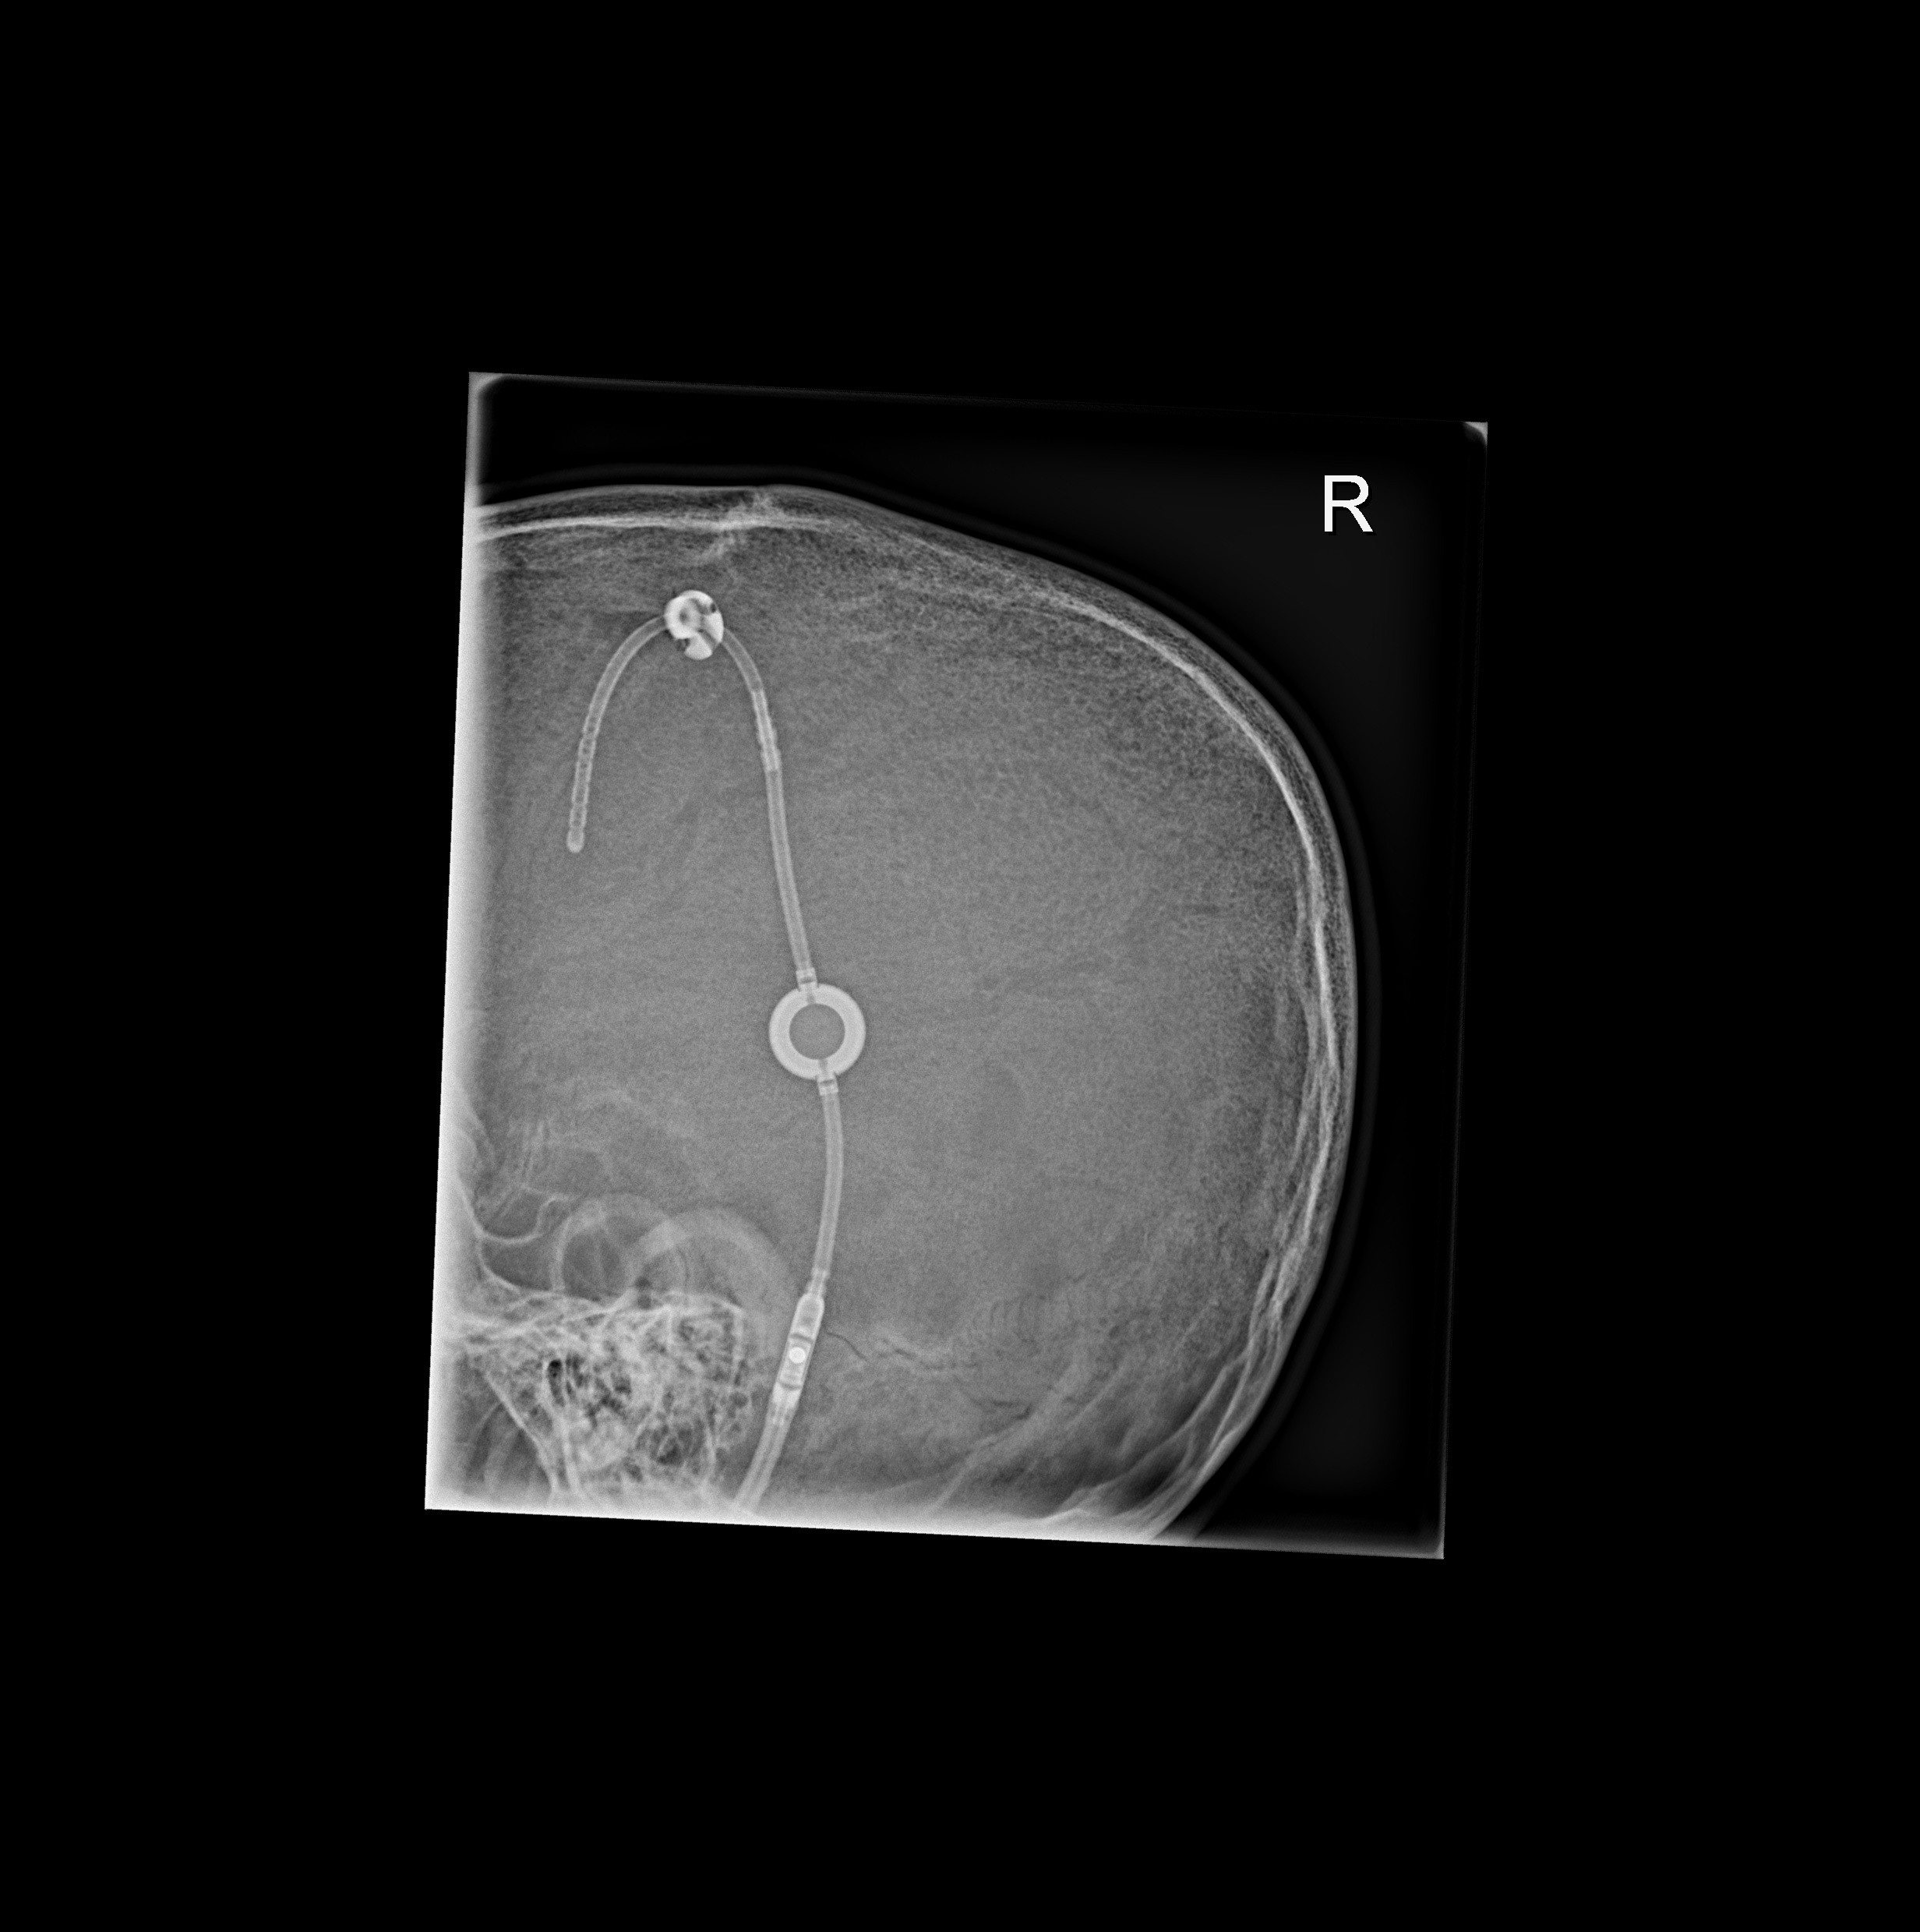paediGAV: (765, 1280, 833, 1436)
